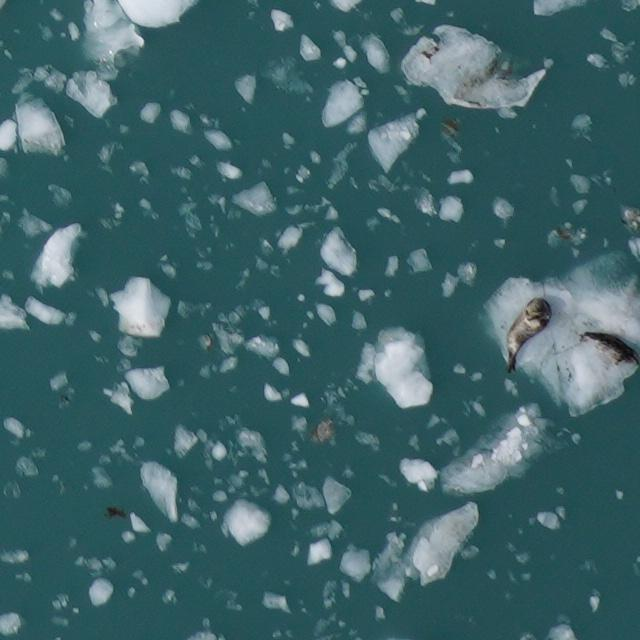seal: (504, 296, 551, 373), (580, 331, 639, 366)
